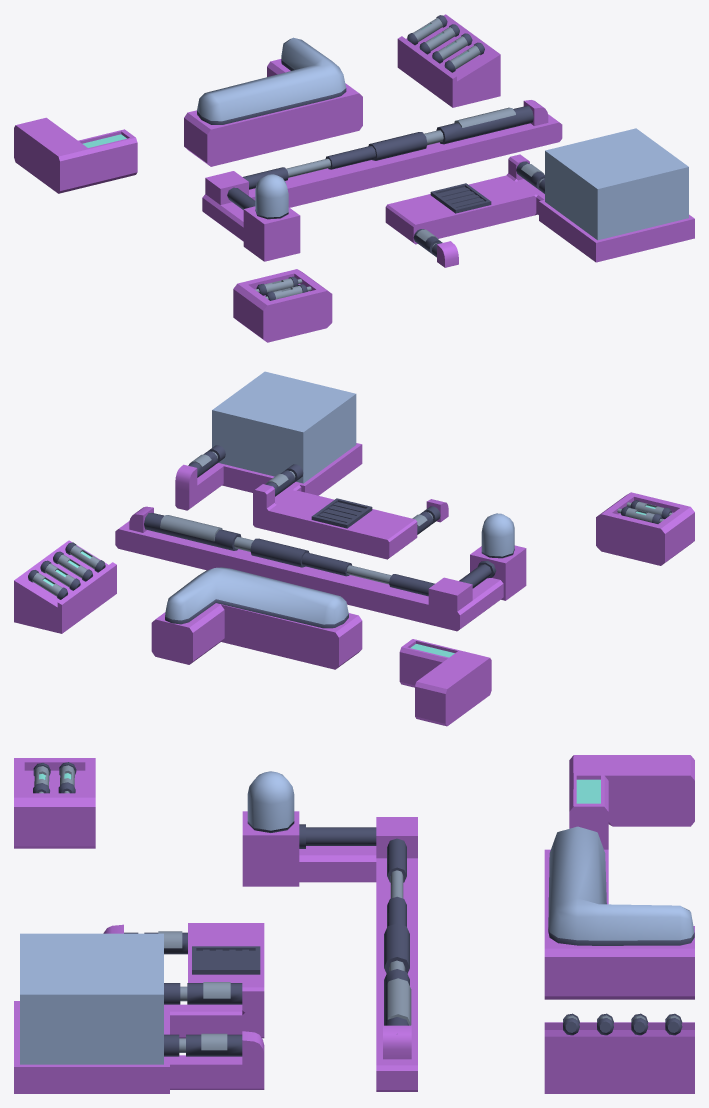
The model's file is Revised_Oxygen_Store_Platform.fbx.
3 renders of one model, top to bottom at view 1: azimuth 30°, elevation 25°; view 2: azimuth 150°, elevation 25°; view 3: azimuth 270°, elevation 25°, orthographic. The views are drawn at different scales.
Visible parts, largest first — view 1: Cube.043, Cube.049, Cube.048, Cube.047, Cube.054, Cube.050, Cube.051, Cube.035, Cube.055, Cube.041, Cube.053, Sphere.005 (+3 smaller); view 2: Cube.043, Cube.049, Cube.048, Cube.047, Cube.050, Cube.054, Cube.051, Cube.035, Cube.055, Cube.041, Cube.053, Sphere.005 (+5 smaller); view 3: Cube.043, Cube.035, Cube.049, Cube.054, Cube.050, Cube.048, Cube.047, Cube.055, Cube.051, Cube.041, Cube.053, Cube.045 (+8 smaller).
Boxes of the visible parts, x1,y1,x2,y2 form: Cube.043: (545, 128, 688, 240); Cube.049: (202, 114, 562, 241); Cube.048: (184, 59, 362, 166); Cube.047: (385, 154, 544, 244); Cube.054: (14, 117, 137, 193); Cube.050: (197, 37, 346, 121); Cube.051: (227, 106, 533, 209); Cube.035: (397, 14, 500, 107); Cube.055: (233, 269, 332, 342); Cube.041: (539, 200, 694, 262); Cube.053: (243, 206, 300, 261); Sphere.005: (255, 174, 288, 217); Cube.043: (212, 371, 356, 483); Cube.049: (115, 521, 503, 631); Cube.048: (151, 603, 362, 669); Cube.047: (253, 482, 417, 559); Cube.050: (165, 567, 348, 624); Cube.054: (399, 639, 491, 726); Cube.051: (144, 513, 496, 596); Cube.035: (14, 540, 116, 633); Cube.055: (596, 492, 694, 565); Cube.041: (217, 443, 362, 495); Cube.053: (470, 545, 526, 600); Sphere.005: (481, 513, 514, 556); Cube.043: (20, 933, 163, 1064); Cube.035: (544, 1022, 694, 1093); Cube.049: (299, 817, 417, 1091); Cube.054: (569, 755, 694, 849); Cube.050: (548, 826, 694, 940); Cube.048: (544, 849, 694, 999); Cube.047: (164, 923, 264, 1038); Cube.055: (14, 758, 95, 848); Cube.051: (299, 824, 411, 1025); Cube.041: (14, 1001, 169, 1093); Cube.053: (242, 811, 299, 886); Cube.045: (164, 1055, 264, 1089).
Bounding box in the file's own units: 900 × 148 × 900.
